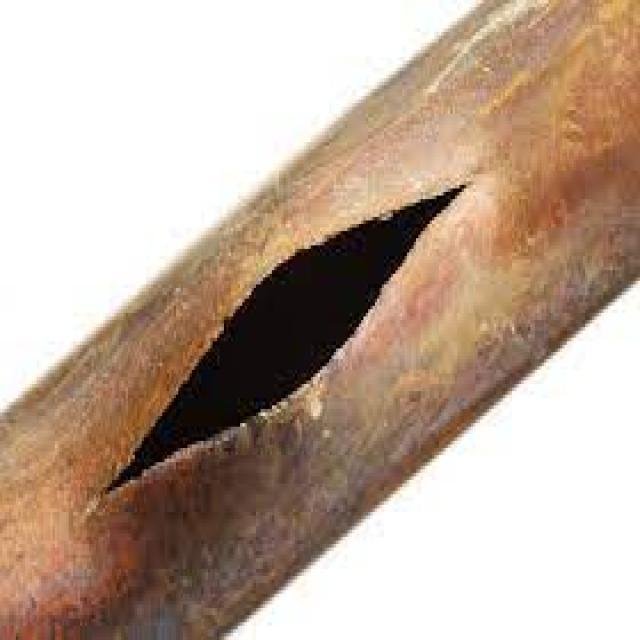crack: (93, 179, 471, 505)
